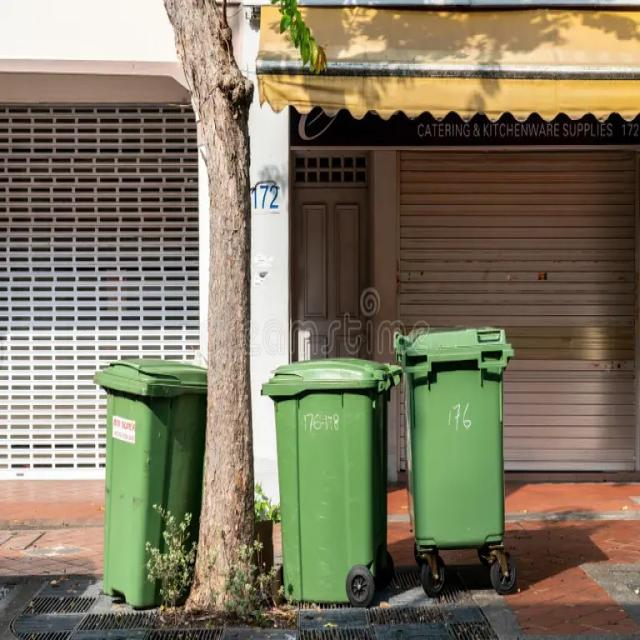bin_empty: (258, 355, 398, 605), (392, 322, 516, 592), (95, 365, 207, 606)
